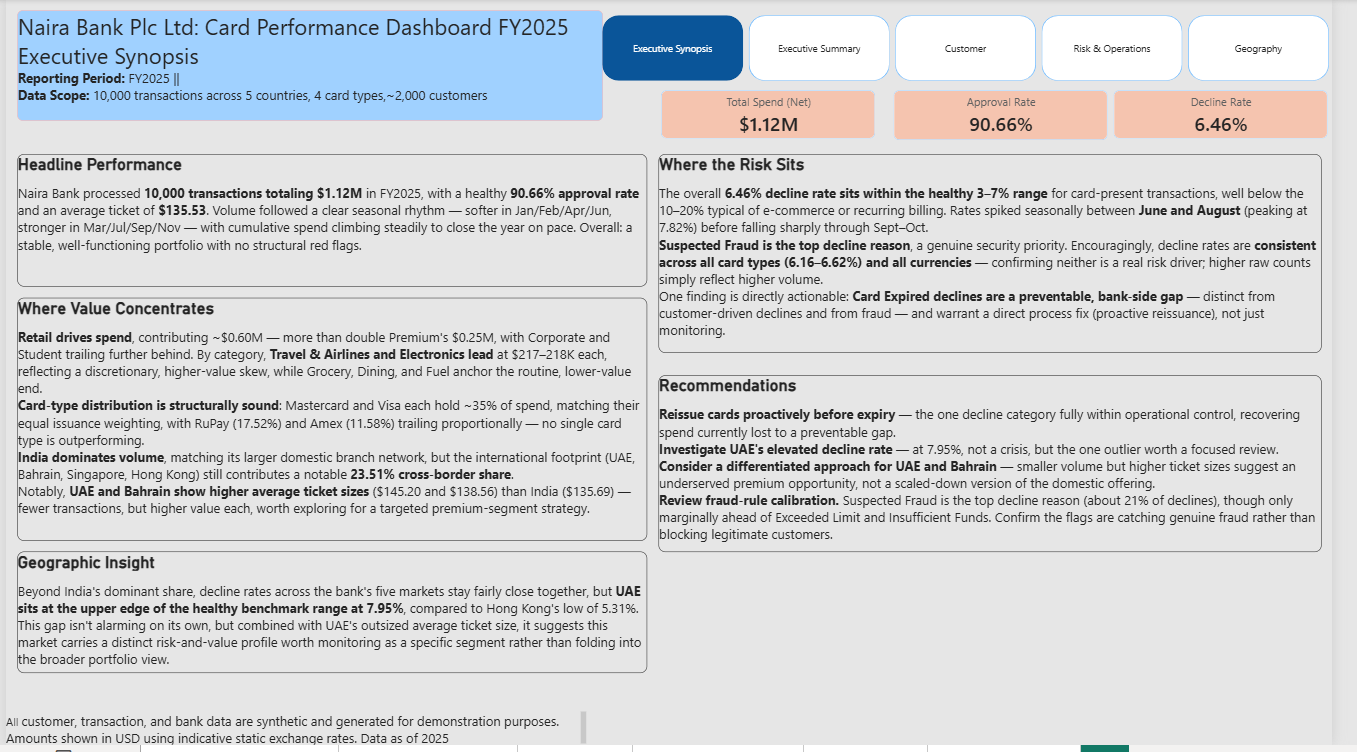

This screenshot's page, from the dashboard's own definition file:
{"tool":"powerbi","page":{"name":"Executive Synopsis","canvas":[1920,1080],"ordinal":0},"visuals":[{"type":"textbox","box":[16,16,848,160],"z":0},{"type":"pageNavigator","box":[864,24,1056,96],"z":1000},{"type":"textbox","box":[0,1032,840,48],"z":2000},{"type":"textbox","title":"Headline Performance","box":[16,224,912,192],"z":7000},{"type":"textbox","title":"Where Value Concentrates","box":[16,432,912,352],"z":8000},{"type":"cardVisual","fields":{"Data":["_Measures.Total Volume (Net)"]},"box":[948.1,131.7,310,70],"z":9000},{"type":"cardVisual","fields":{"Data":["_Measures.Approval Rate"]},"box":[1284.1,131.7,310,72],"z":10000},{"type":"cardVisual","fields":{"Data":["_Measures.Decline Rate"]},"box":[1604.1,131.7,310,70],"z":11000},{"type":"textbox","title":"Where the Risk Sits","box":[944,224,960,288],"z":12000},{"type":"textbox","title":"Geographic Insight","box":[16,800,912,176],"z":13000},{"type":"textbox","title":"Recommendations","box":[944,544,960,256],"z":14000}]}

Visuals, with their boxes in screenshot pixels (x1, y1, x2, y2), scaled from the page's 1920x1080 canvas onto the 1357x752 screenshot:
textbox: bbox=[11, 11, 611, 123]
pageNavigator: bbox=[611, 17, 1356, 84]
textbox: bbox=[0, 719, 594, 751]
"Headline Performance" textbox: bbox=[11, 156, 656, 290]
"Where Value Concentrates" textbox: bbox=[11, 301, 656, 546]
cardVisual - _Measures.Total Volume (Net): bbox=[670, 92, 889, 140]
cardVisual - _Measures.Approval Rate: bbox=[908, 92, 1127, 142]
cardVisual - _Measures.Decline Rate: bbox=[1134, 92, 1353, 140]
"Where the Risk Sits" textbox: bbox=[667, 156, 1346, 357]
"Geographic Insight" textbox: bbox=[11, 557, 656, 680]
"Recommendations" textbox: bbox=[667, 379, 1346, 557]
